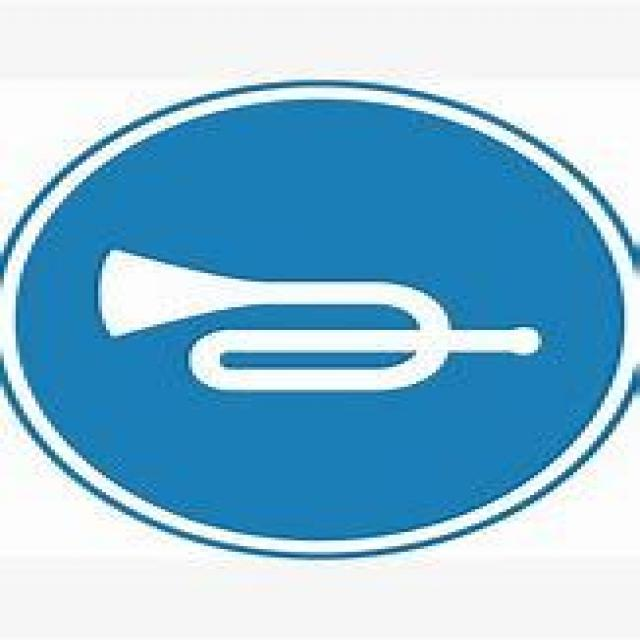COMPULSARY_SOUND_HORN: (0, 77, 636, 560)
